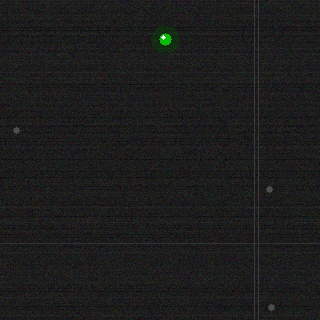green_normal: (157, 31, 173, 47)
